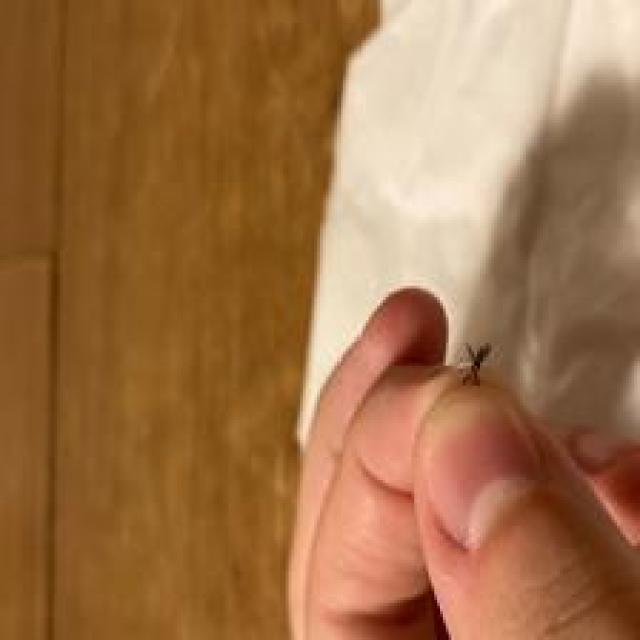Aedes albopictus: (456, 342, 493, 387)
